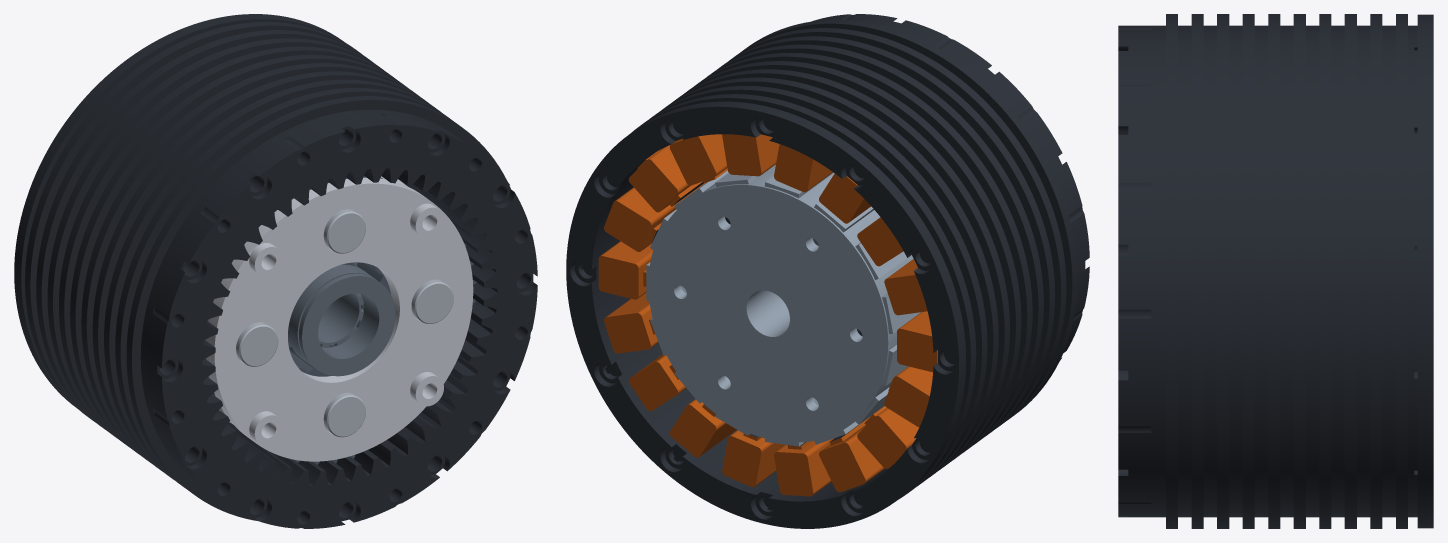
File: Wisco_Actuator_Gear_Motion.obj
The picture shows the model from 3 angles, left to right: view 1: azimuth 30°, elevation 25°; view 2: azimuth 150°, elevation 25°; view 3: azimuth 270°, elevation 25°; orthographic projection. The views are drawn at different scales.
Parts seen in each view (by area): view 1: mesh524, mesh1452, mesh753, mesh788, mesh4, mesh877, mesh1675, mesh836, mesh832, mesh820, mesh816, mesh848 (+22 smaller); view 2: mesh416, mesh900, mesh903, mesh753, mesh877, mesh822, mesh838, mesh826, mesh830, mesh842, mesh814, mesh818 (+38 smaller); view 3: mesh753, mesh877, mesh827, mesh815, mesh823, mesh831, mesh839, mesh847, mesh819, mesh835, mesh843, mesh817 (+10 smaller).
Boxes of the visible parts, <box> form: mesh524: <box>162,125,537,528</box>; mesh1452: <box>214,183,473,461</box>; mesh753: <box>140,109,473,495</box>; mesh788: <box>132,100,510,521</box>; mesh4: <box>241,213,453,436</box>; mesh877: <box>14,14,343,407</box>; mesh1675: <box>302,276,395,376</box>; mesh836: <box>64,50,396,445</box>; mesh832: <box>75,58,407,453</box>; mesh820: <box>109,83,440,478</box>; mesh816: <box>120,91,452,486</box>; mesh848: <box>30,25,361,421</box>; mesh416: <box>648,185,888,442</box>; mesh900: <box>566,106,958,528</box>; mesh903: <box>592,153,892,501</box>; mesh753: <box>811,14,1089,360</box>; mesh877: <box>633,101,966,496</box>; mesh822: <box>718,40,1049,435</box>; mesh838: <box>672,73,1004,469</box>; mesh826: <box>707,48,1038,444</box>; mesh830: <box>696,56,1027,451</box>; mesh842: <box>662,81,993,475</box>; mesh814: <box>740,23,1072,418</box>; mesh818: <box>729,32,1060,426</box>; mesh753: <box>1118,25,1165,517</box>; mesh877: <box>1417,14,1433,528</box>; mesh827: <box>1254,25,1268,517</box>; mesh815: <box>1178,25,1191,517</box>; mesh823: <box>1229,25,1242,517</box>; mesh831: <box>1280,25,1293,517</box>; mesh839: <box>1331,25,1344,517</box>; mesh847: <box>1382,25,1395,517</box>; mesh819: <box>1203,25,1216,517</box>; mesh835: <box>1306,25,1319,517</box>; mesh843: <box>1357,25,1370,517</box>; mesh817: <box>1191,14,1203,528</box>.
Size of the model in its own units: 0.0807 by 0.0807 by 0.0494.
